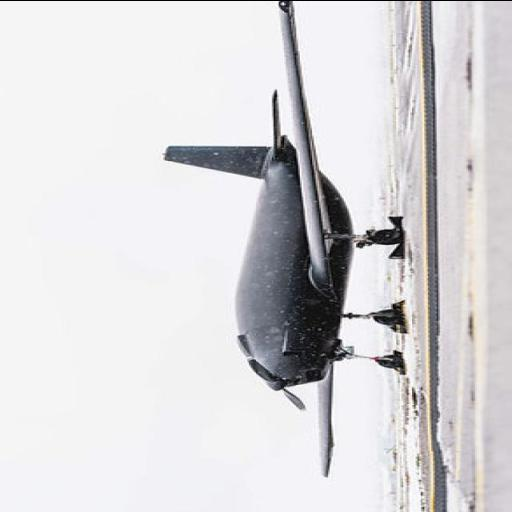uav: (157, 0, 404, 483)
